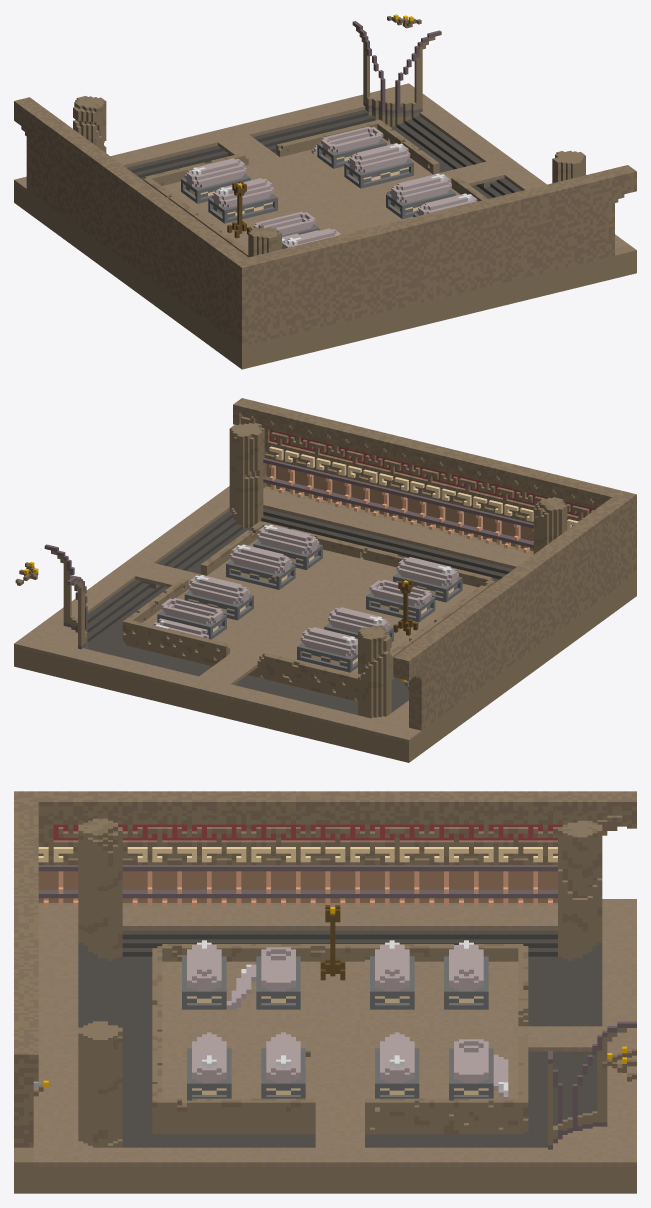
Rendered from Room1-3.obj.
The picture shows the model from 3 angles, top to bottom: view 1: azimuth 30°, elevation 25°; view 2: azimuth 150°, elevation 25°; view 3: azimuth 270°, elevation 25°; orthographic projection. The views are drawn at different scales.
Bounding box in the file's own units: 12.6 × 3.1 × 12.6.
1 material, 1 textured.
